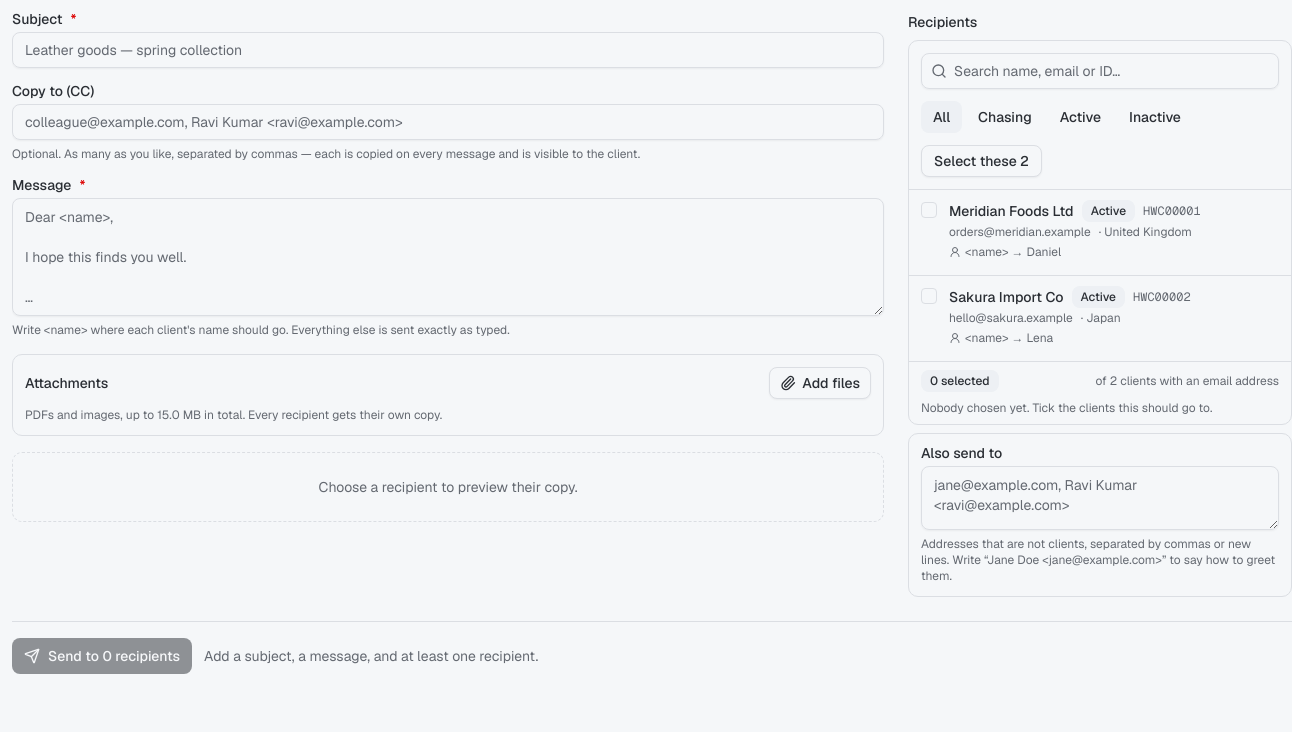
Test: sending › cannot be sent while an address cannot be read
Type "Spring range" into the field labelled "Subject *". click: (448, 50)
box: [12,32,884,68]
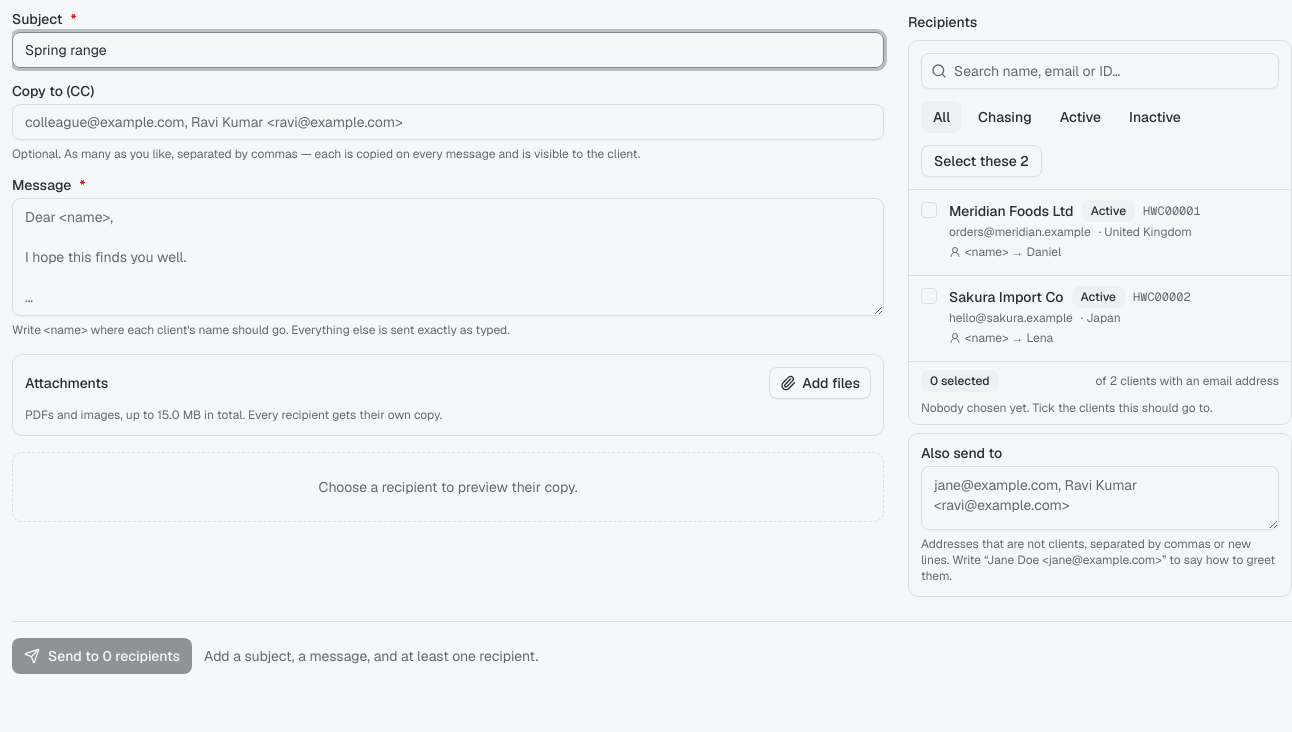
Type "Dear <name>," into the text box labelled "Message *". click: (448, 257)
box: [12,198,884,316]
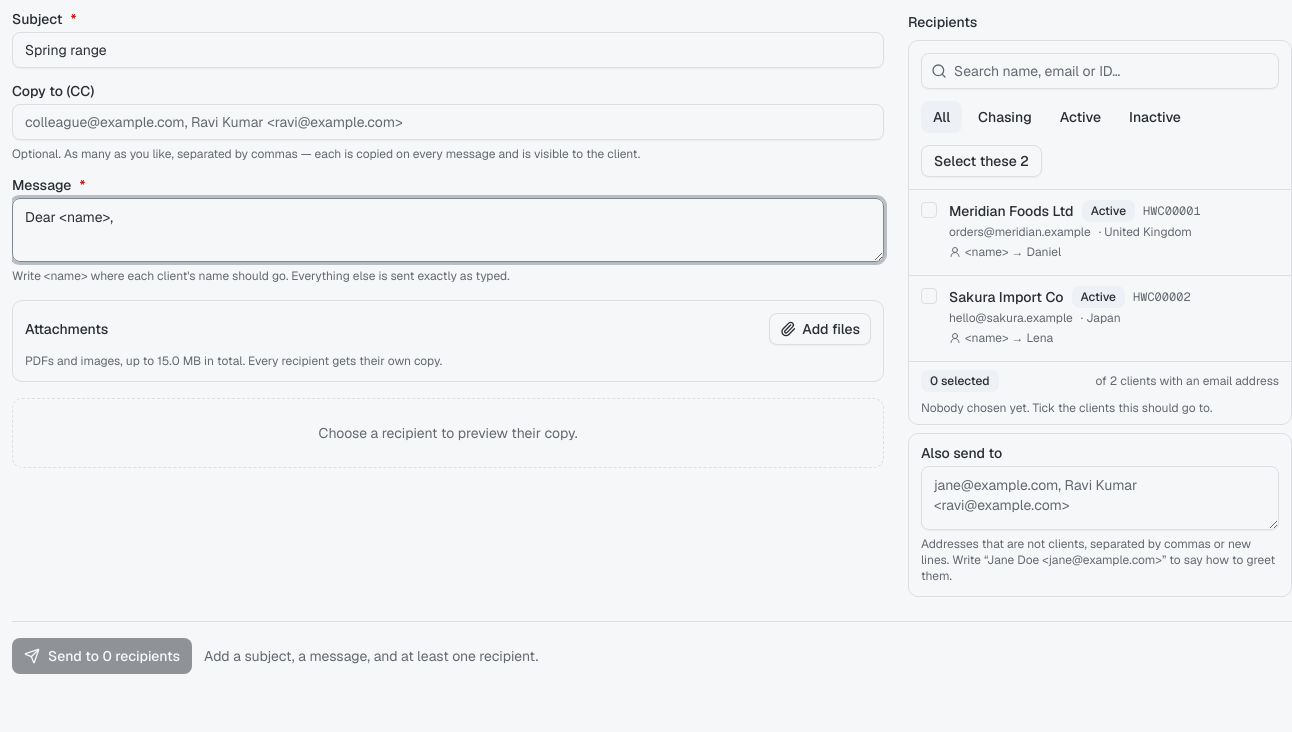
Click the checkbox named "Write to Meridian Foods Ltd". click: (929, 210)
box: [921,202,937,218]
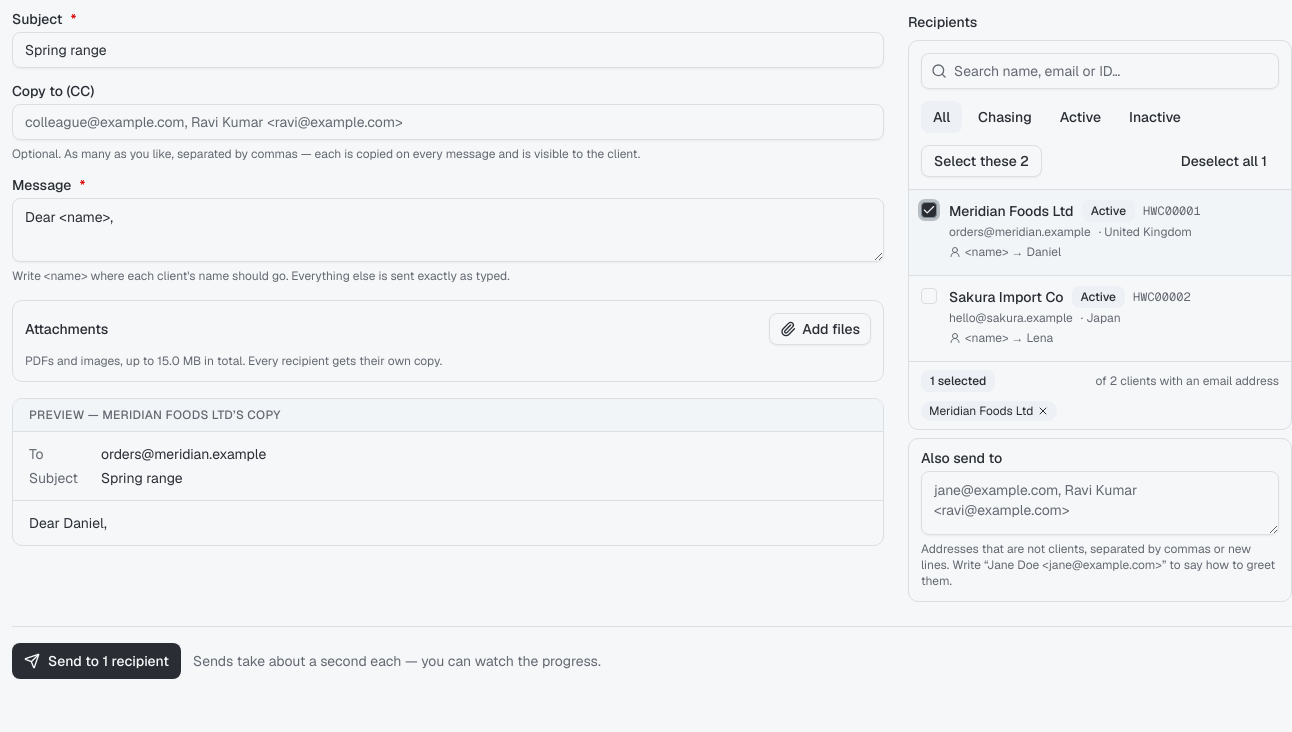
Type "not-an-address" into the text box labelled "Also send to". click: (1100, 503)
box: [921,471,1279,535]
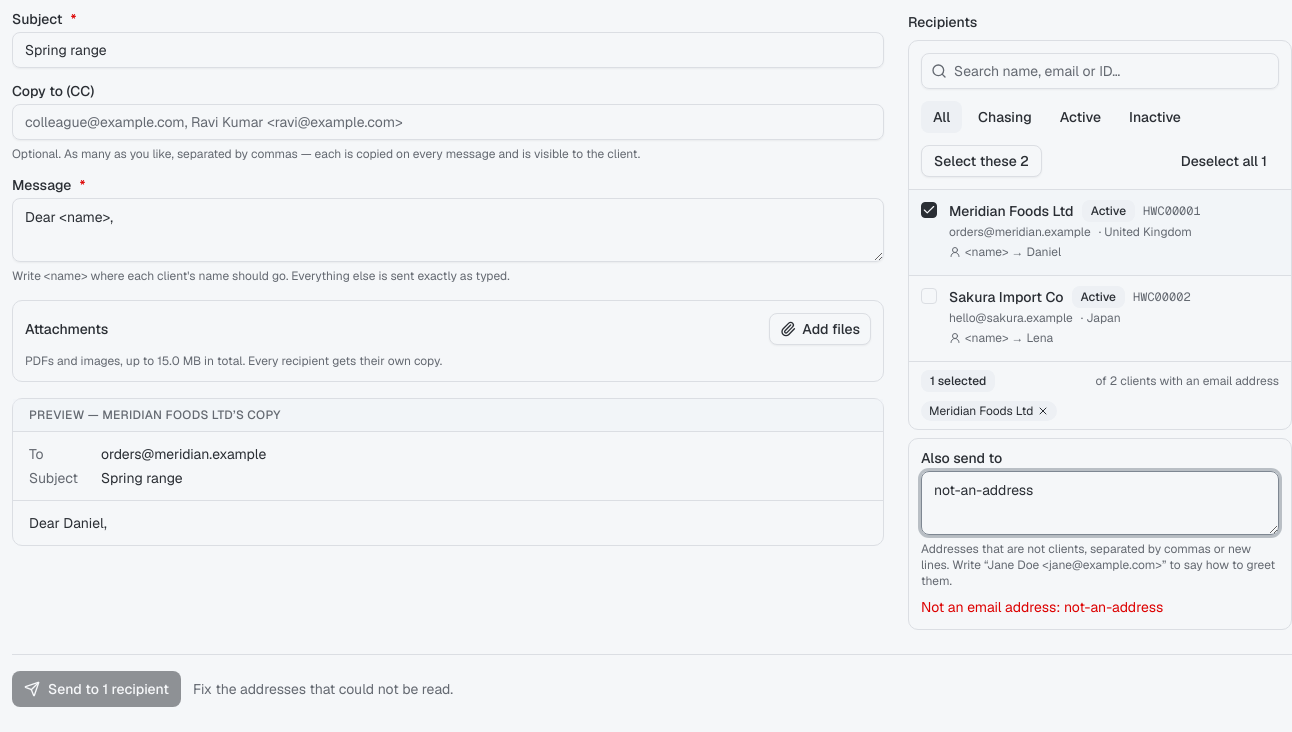
Check: the button "Send to 1 recipient" is disabled, box [12,671,181,707]
Check: the message shows "Not an email address", box [921,598,1064,616]
